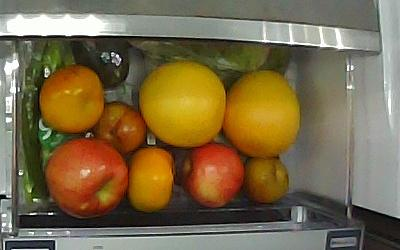apple: (44, 138, 130, 218), (180, 143, 245, 208)
grapefruit: (139, 60, 226, 147), (224, 70, 301, 158)
persimmon: (39, 64, 103, 133), (130, 147, 174, 211)
prune: (96, 101, 147, 153), (245, 157, 290, 205)
